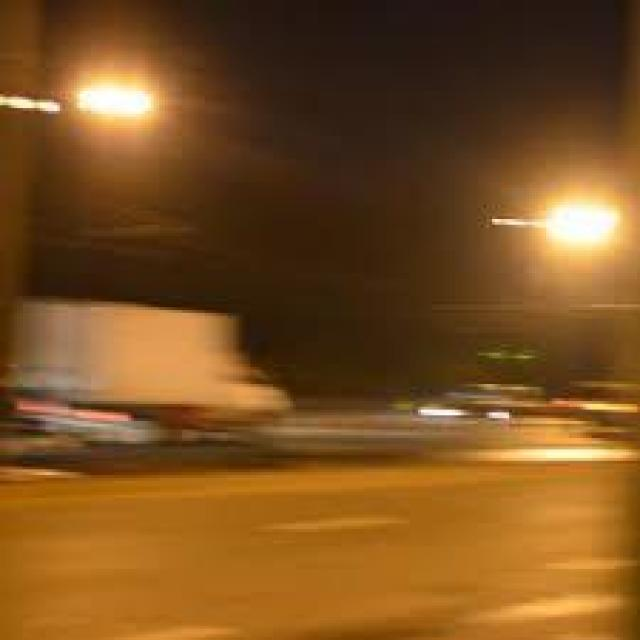other: (63, 66, 196, 147), (537, 182, 611, 253)
